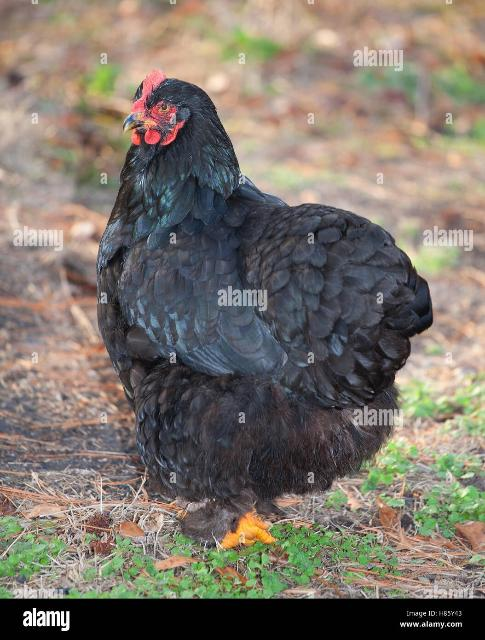Chicken: (94, 74, 434, 553)
